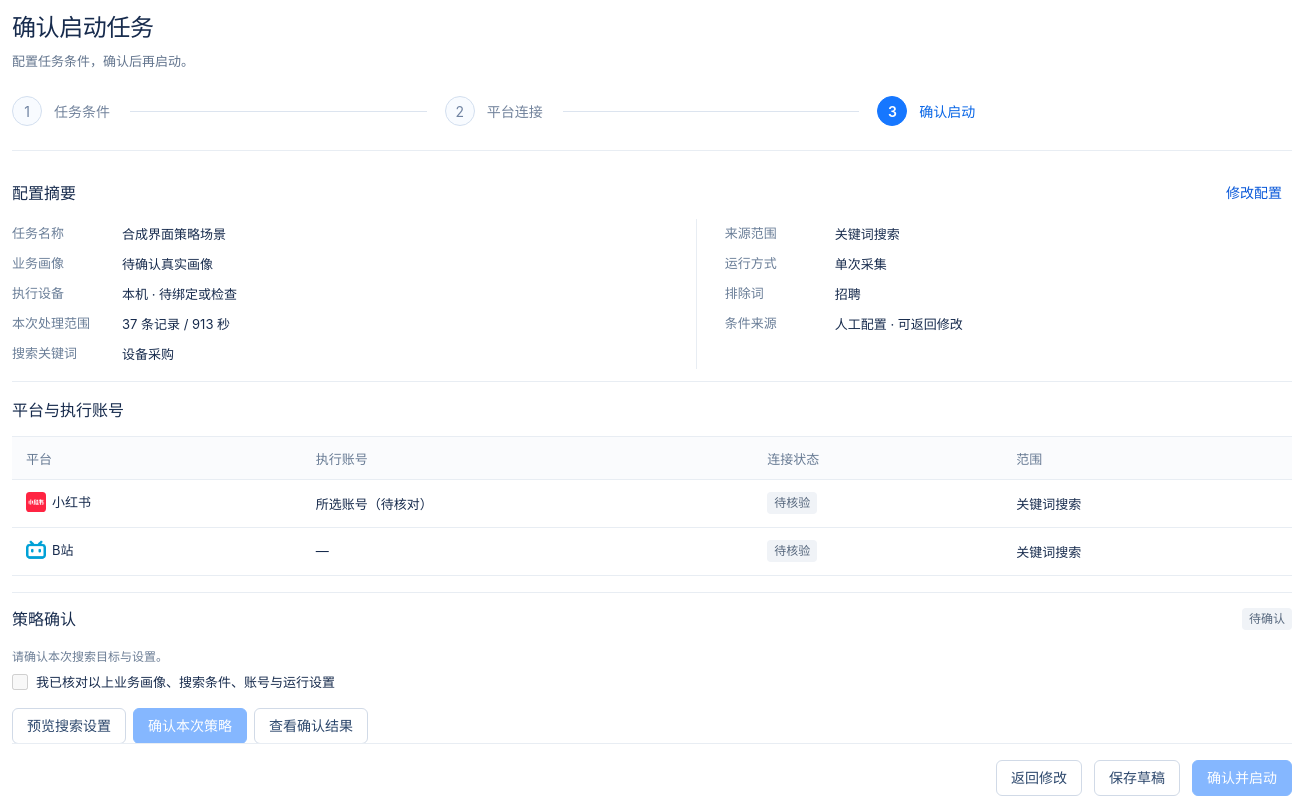
Scenario: TaskWizard strategy confirmation with the actual controller › prepares and shows exact platform overrides in the bound server snapshot
What coordinates should you click on to do the following:
click the button "预览搜索设置"
I would click on:
 (69, 726)
Its box is left=12, top=708, right=126, bottom=744.
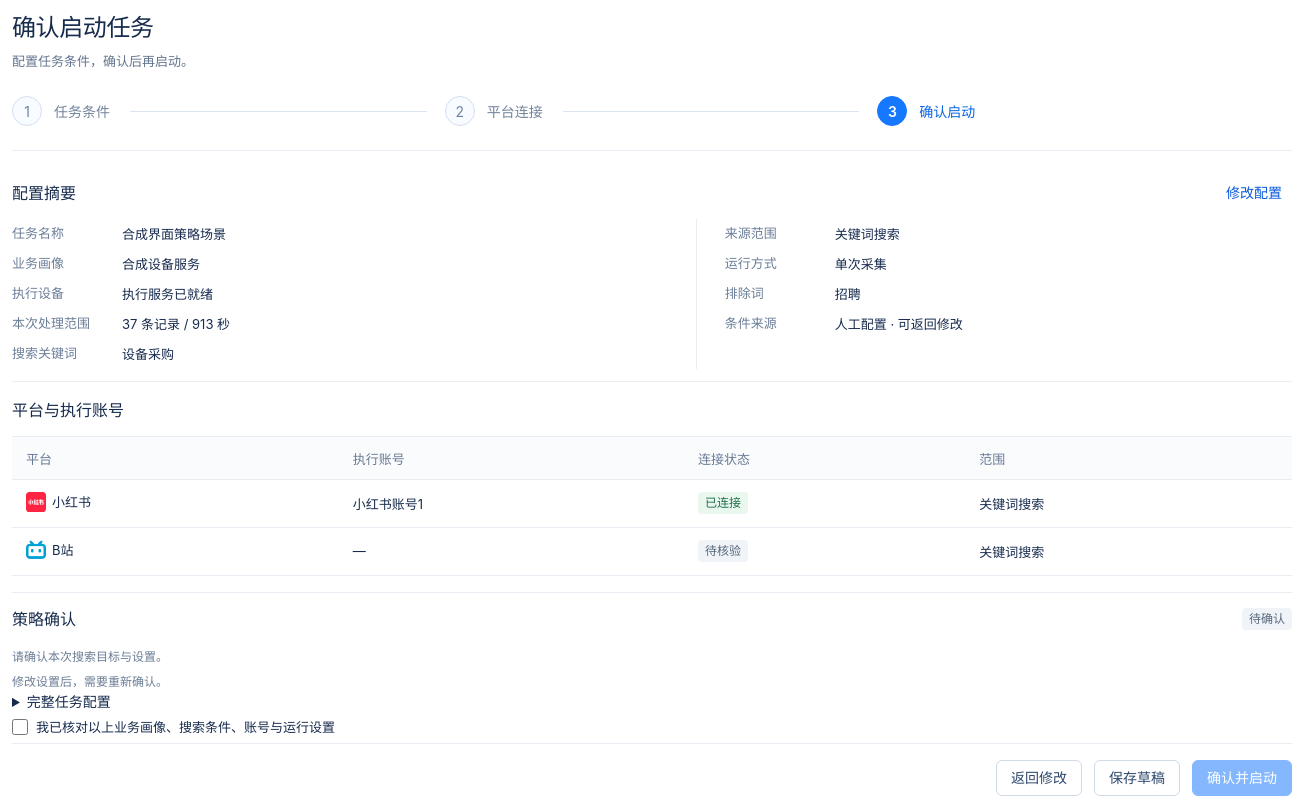
Check: the heading "完整任务配置" is shown, box left=27, top=693, right=111, bottom=710
